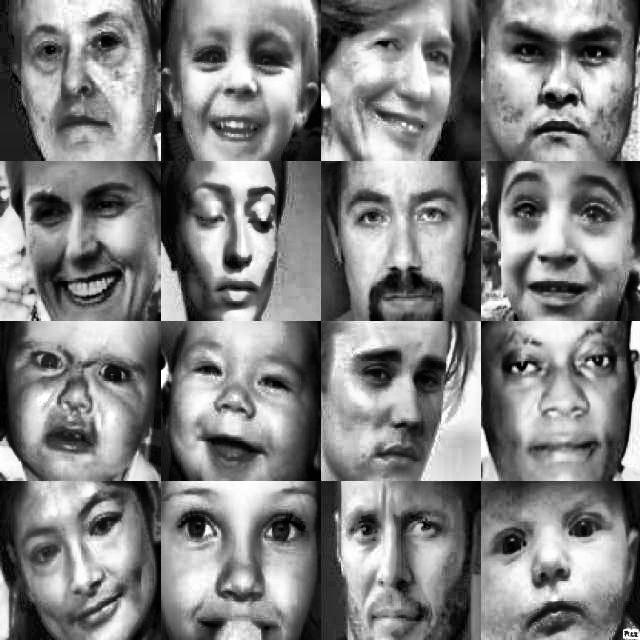happy: (171, 496, 307, 636), (347, 17, 469, 155), (30, 173, 152, 310), (184, 12, 304, 150), (179, 347, 303, 475), (24, 508, 148, 626)
neutral: (338, 171, 466, 315), (486, 504, 619, 640), (503, 340, 640, 469), (510, 15, 639, 152), (20, 13, 149, 145), (346, 499, 468, 633)
sad: (22, 328, 159, 462), (500, 165, 617, 301), (189, 183, 306, 315), (342, 345, 453, 482)
